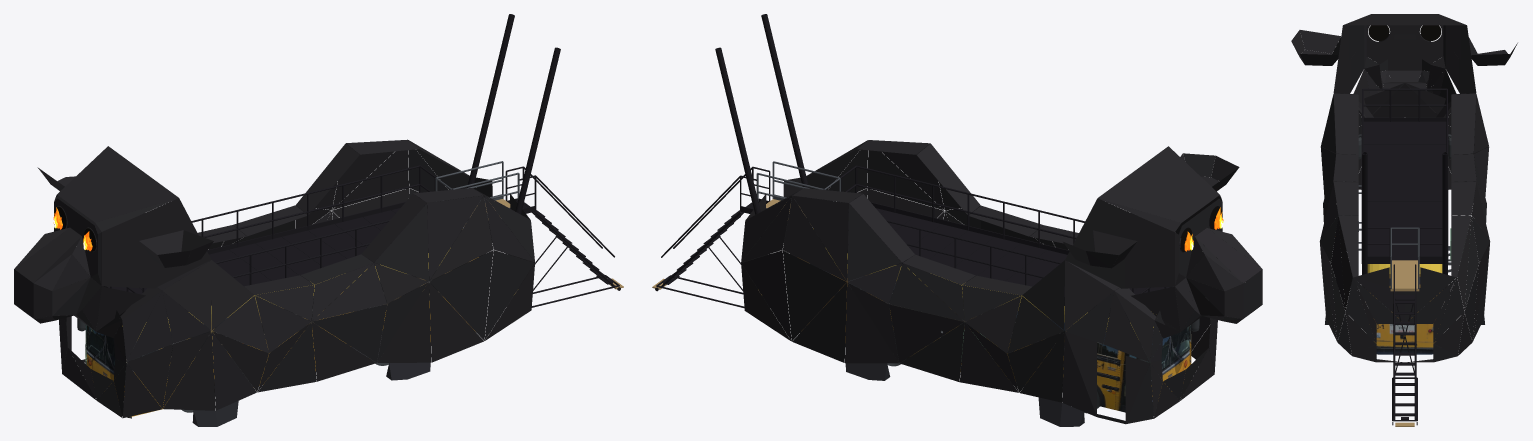
File: baaabs-earl-skirt-fit.glb
3 views of the same model, side by side, from view 1: azimuth 30°, elevation 25°; view 2: azimuth 150°, elevation 25°; view 3: azimuth 270°, elevation 25° (orthographic). The views are drawn at different scales.
Visible parts, largest first — view 1: B-D-038 | Driver Flank 07 b, B-D-036 | Driver Flank 06 b, B-D-043 | Driver Skirt 02 a, B-D-037 | Driver Flank 07 a, B-D-047 | Driver Skirt 04 a, B-D-028 | Driver Flank 02 b, H-D-001 | Driver continuous side, B-D-045 | Driver Skirt 03 a, B-D-033 | Driver Flank 05 a, B-P-045 | Passenger Flank 07 a, H-D-014 | Driver head side upper, H-D-015 | Driver rising crown (+64 smaller); view 2: B-P-046 | Passenger Flank 07 b, B-P-044 | Passenger Flank 06 b, B-P-045 | Passenger Flank 07 a, B-P-055 | Passenger Skirt 04 a, H-P-001 | Passenger continuous side, B-P-036 | Passenger Flank 02 b, B-P-041 | Passenger Flank 05 a, B-D-037 | Driver Flank 07 a, H-P-015 | Passenger rising crown, H-C-002 | Center continuous rising crown, H-D-015 | Driver rising crown, H-P-014 | Passenger head side upper (+65 smaller); view 3: B-D-013 | Driver Crown 03 a, B-P-021 | Passenger Crown 03 a, Bus__Rear fascia, Dancefloor_section_01, B-D-059 | Driver Rear surround 06 a, B-P-015 | Passenger Rear surround 05 a, Dancefloor_section_02, Dancefloor_section_12, Dancefloor_section_05, Dancefloor_section_09, Dancefloor_section_04, Dancefloor_section_06 (+81 smaller).
Boxes of the visible parts, x1,y1,x2,y2 form: B-D-038 | Driver Flank 07 b: (427,195,483,280); B-D-036 | Driver Flank 06 b: (374,203,428,281); B-D-043 | Driver Skirt 02 a: (163,332,215,410); B-D-037 | Driver Flank 07 a: (430,196,493,280); B-D-047 | Driver Skirt 04 a: (258,322,316,392); B-D-028 | Driver Flank 02 b: (162,260,211,330); H-D-001 | Driver continuous side: (101,250,150,288); B-D-045 | Driver Skirt 03 a: (212,332,256,410); B-D-033 | Driver Flank 05 a: (312,263,386,321); B-P-045 | Passenger Flank 07 a: (333,150,408,209); H-D-014 | Driver head side upper: (101,208,156,254); H-D-015 | Driver rising crown: (85,178,178,222); B-P-046 | Passenger Flank 07 b: (793,196,848,280); B-P-044 | Passenger Flank 06 b: (847,203,901,281); B-P-045 | Passenger Flank 07 a: (783,196,846,281); B-P-055 | Passenger Skirt 04 a: (959,323,1018,392); H-P-001 | Passenger continuous side: (1125,250,1174,288); B-P-036 | Passenger Flank 02 b: (1065,260,1113,330); B-P-041 | Passenger Flank 05 a: (889,263,963,321); B-D-037 | Driver Flank 07 a: (867,150,943,210); H-P-015 | Passenger rising crown: (1098,179,1191,222); H-C-002 | Center continuous rising crown: (1124,165,1209,215); H-D-015 | Driver rising crown: (1142,146,1219,201); H-P-014 | Passenger head side upper: (1120,208,1174,254); B-D-013 | Driver Crown 03 a: (1333,93,1358,154); B-P-021 | Passenger Crown 03 a: (1451,93,1476,154); Bus__Rear fascia: (1370,274,1439,347); Dancefloor_section_01: (1361,121,1448,133); B-D-059 | Driver Rear surround 06 a: (1353,267,1404,321); B-P-015 | Passenger Rear surround 05 a: (1405,267,1456,321); Dancefloor_section_02: (1361,133,1448,144); Dancefloor_section_12: (1361,248,1448,263); Dancefloor_section_05: (1361,167,1448,178); Dancefloor_section_09: (1361,212,1448,223); Dancefloor_section_04: (1361,156,1448,167); Dancefloor_section_06: (1361,178,1448,189).
Size of the model in its own units: 18.68 by 8.36 by 7.07.
225 materials, 1 textured.
